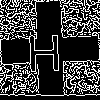H: (25, 25, 63, 72)
